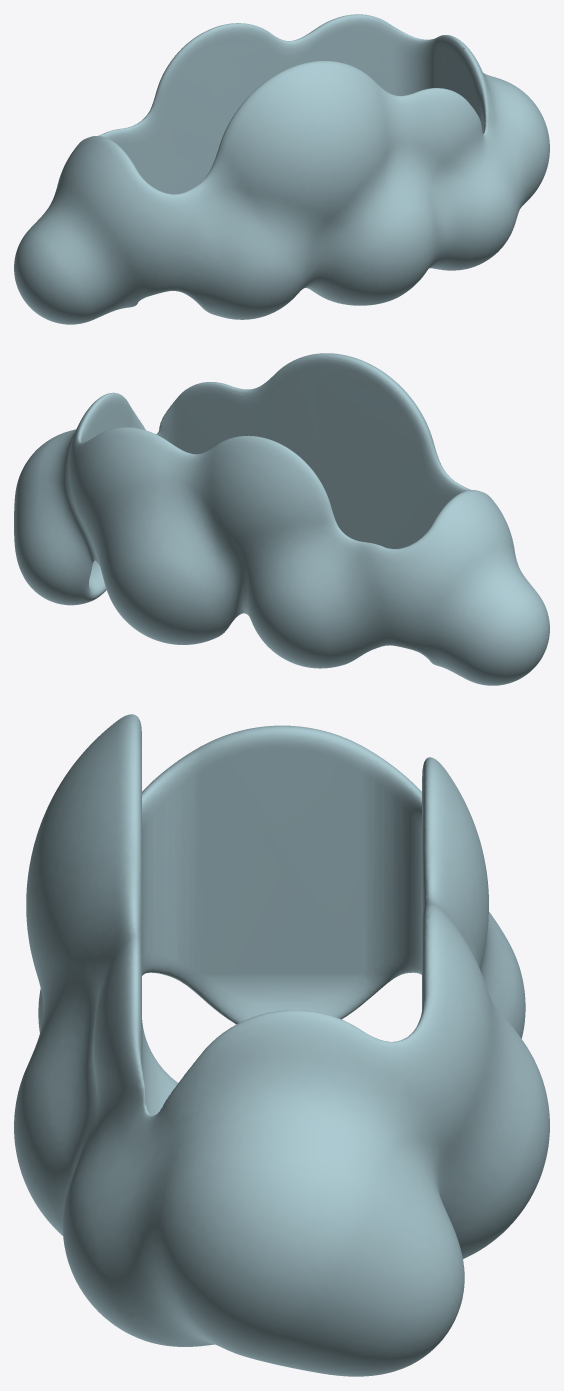
Rendered from cloud-storage.glb.
The picture shows the model from 3 angles, top to bottom: view 1: azimuth 30°, elevation 25°; view 2: azimuth 150°, elevation 25°; view 3: azimuth 270°, elevation 25°; orthographic projection. The views are drawn at different scales.
Visible parts, largest first — view 1: cloud-body; view 2: cloud-body; view 3: cloud-body.
Part boxes in pixels (left/top/right/bottom): cloud-body: left=14, top=14, right=549, bottom=324; cloud-body: left=14, top=353, right=549, bottom=685; cloud-body: left=14, top=714, right=549, bottom=1376.
Bounding box in the file's own units: 0.179 × 0.0832 × 0.088.
